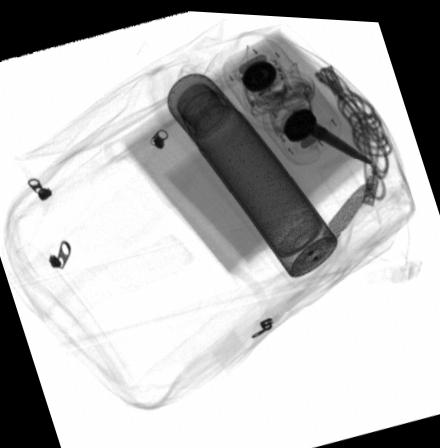Knife: (315, 178, 376, 242)
Scissors: (250, 63, 371, 161)
